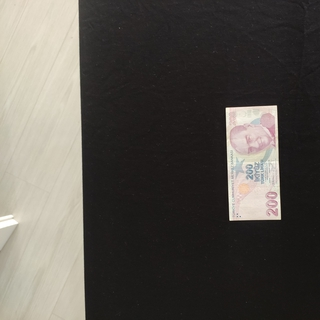200TLFront: (223, 105, 281, 221)
